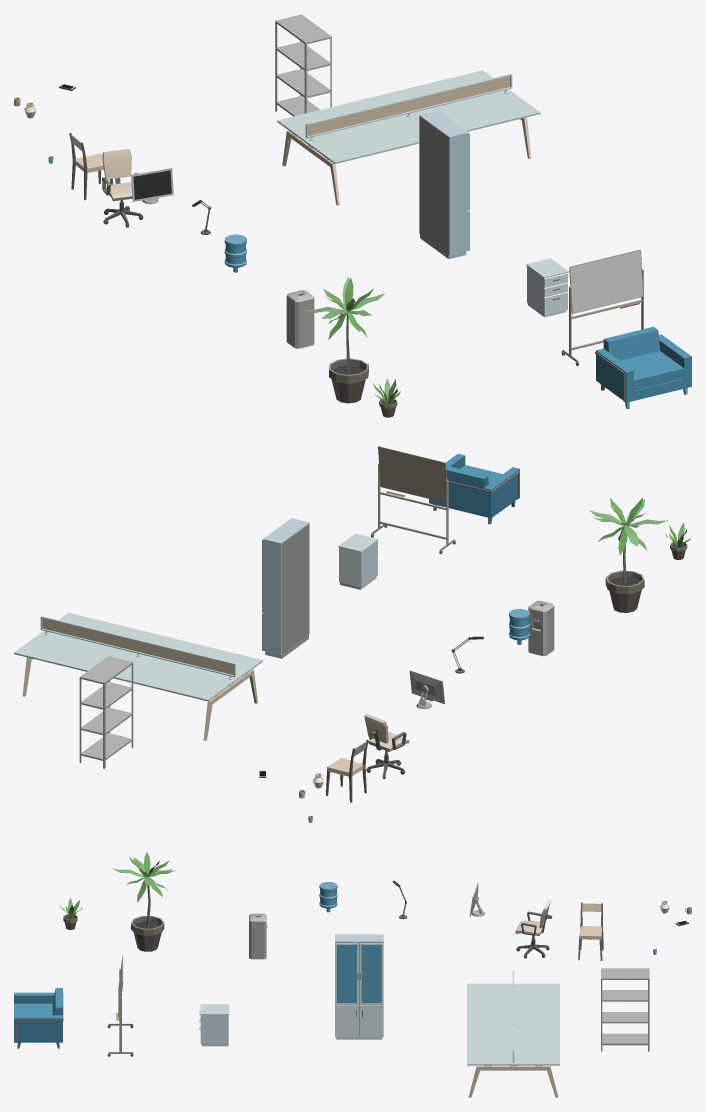
File: Office (1)_subset.FBX
3 renders of one model, top to bottom at view 1: azimuth 30°, elevation 25°; view 2: azimuth 150°, elevation 25°; view 3: azimuth 270°, elevation 25°, orthographic. The views are drawn at different scales.
Parts seen in each view (by area): view 1: PREF_table_02, PREF_furniture_05, PREF_chair_03 (4), PREF_board_01, PREF_furniture_06, PREF_flower_01, PREF_furniture_01, PREF_chair_01, PREF_cooler_01, PREF_office_supplies_02, PREF_chair_04, PREF_bottle_01; view 2: PREF_table_02, PREF_furniture_05, PREF_board_01, PREF_furniture_06, PREF_chair_03 (4), PREF_flower_01, PREF_furniture_01, PREF_cooler_01, PREF_chair_01, PREF_chair_04, PREF_office_supplies_02, PREF_bottle_01; view 3: PREF_table_02, PREF_furniture_05, PREF_chair_03 (4), PREF_furniture_06, mesh_furniture_05_glass, PREF_flower_01, PREF_furniture_01, PREF_chair_01, PREF_cooler_01, PREF_chair_04, PREF_board_01, PREF_bottle_01.
Boxes of the visible parts, x1=… form: PREF_table_02: x1=277, y1=70, x2=540, y2=205; PREF_furniture_05: x1=419, y1=110, x2=469, y2=258; PREF_chair_03 (4): x1=595, y1=326, x2=691, y2=408; PREF_board_01: x1=561, y1=249, x2=643, y2=365; PREF_furniture_06: x1=275, y1=14, x2=331, y2=116; PREF_flower_01: x1=304, y1=277, x2=384, y2=403; PREF_furniture_01: x1=526, y1=258, x2=568, y2=317; PREF_chair_01: x1=102, y1=149, x2=143, y2=227; PREF_cooler_01: x1=286, y1=290, x2=314, y2=348; PREF_office_supplies_02: x1=131, y1=168, x2=173, y2=204; PREF_chair_04: x1=69, y1=133, x2=113, y2=200; PREF_bottle_01: x1=224, y1=234, x2=246, y2=272; PREF_table_02: x1=14, y1=612, x2=262, y2=740; PREF_furniture_05: x1=262, y1=518, x2=309, y2=658; PREF_board_01: x1=371, y1=446, x2=455, y2=554; PREF_furniture_06: x1=79, y1=656, x2=133, y2=768; PREF_chair_03 (4): x1=429, y1=453, x2=519, y2=524; PREF_flower_01: x1=589, y1=497, x2=667, y2=612; PREF_furniture_01: x1=338, y1=533, x2=378, y2=589; PREF_cooler_01: x1=528, y1=600, x2=554, y2=655; PREF_chair_01: x1=364, y1=713, x2=409, y2=778; PREF_chair_04: x1=326, y1=739, x2=368, y2=802; PREF_office_supplies_02: x1=409, y1=670, x2=445, y2=709; PREF_bottle_01: x1=509, y1=609, x2=530, y2=644; PREF_table_02: x1=467, y1=970, x2=559, y2=1097; PREF_furniture_05: x1=335, y1=934, x2=383, y2=1039; PREF_chair_03 (4): x1=14, y1=988, x2=63, y2=1048; PREF_furniture_06: x1=601, y1=968, x2=649, y2=1051; mesh_furniture_05_glass: x1=337, y1=945, x2=381, y2=1002; PREF_flower_01: x1=112, y1=852, x2=175, y2=951; PREF_furniture_01: x1=199, y1=1004, x2=229, y2=1046; PREF_chair_01: x1=515, y1=899, x2=552, y2=958; PREF_cooler_01: x1=249, y1=913, x2=267, y2=959; PREF_chair_04: x1=578, y1=902, x2=603, y2=960; PREF_board_01: x1=107, y1=954, x2=133, y2=1056; PREF_bottle_01: x1=319, y1=882, x2=337, y2=912.
Size of the model in its own units: 16272 by 4464 by 27819.
2 materials, 2 textured.
